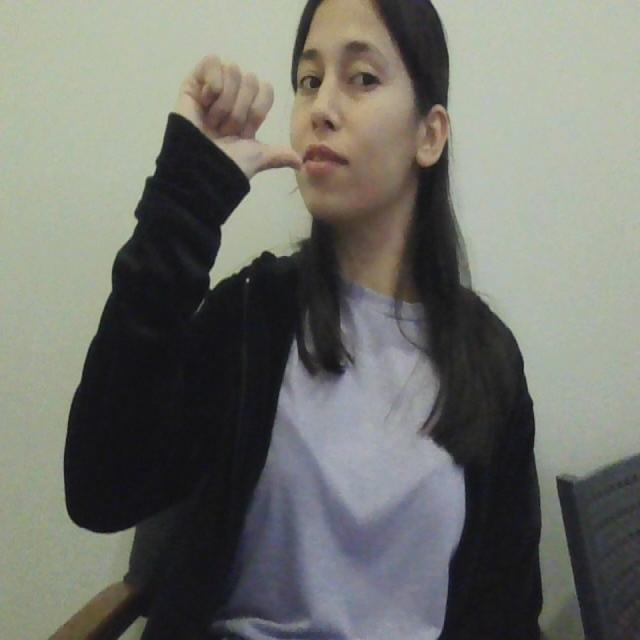icmek: (156, 54, 336, 170)
